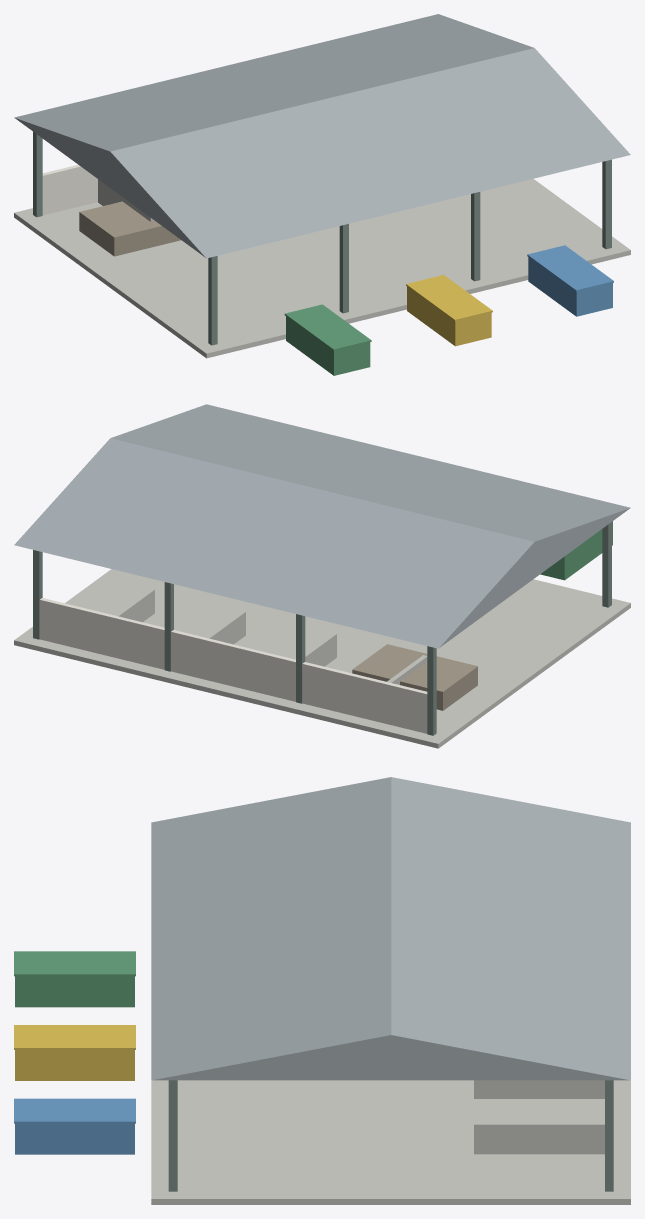
File: tps3r.glb
The picture shows the model from 3 angles, top to bottom: view 1: azimuth 30°, elevation 25°; view 2: azimuth 150°, elevation 25°; view 3: azimuth 270°, elevation 25°; orthographic projection. The views are drawn at different scales.
Parts seen in each view (by area): view 1: roof, structure, yard; view 2: roof, structure, yard; view 3: roof, structure, yard.
Boxes of the visible parts, x1,y1,x2,y2 form: roof: (14, 14, 630, 258); structure: (14, 132, 630, 358); yard: (79, 201, 613, 375); roof: (14, 404, 630, 648); structure: (14, 522, 630, 748); yard: (352, 521, 612, 710); roof: (151, 777, 630, 1080); structure: (151, 1080, 630, 1204); yard: (14, 951, 135, 1154).
Bounding box in the file's own units: 28 × 8.6 × 28.3.
